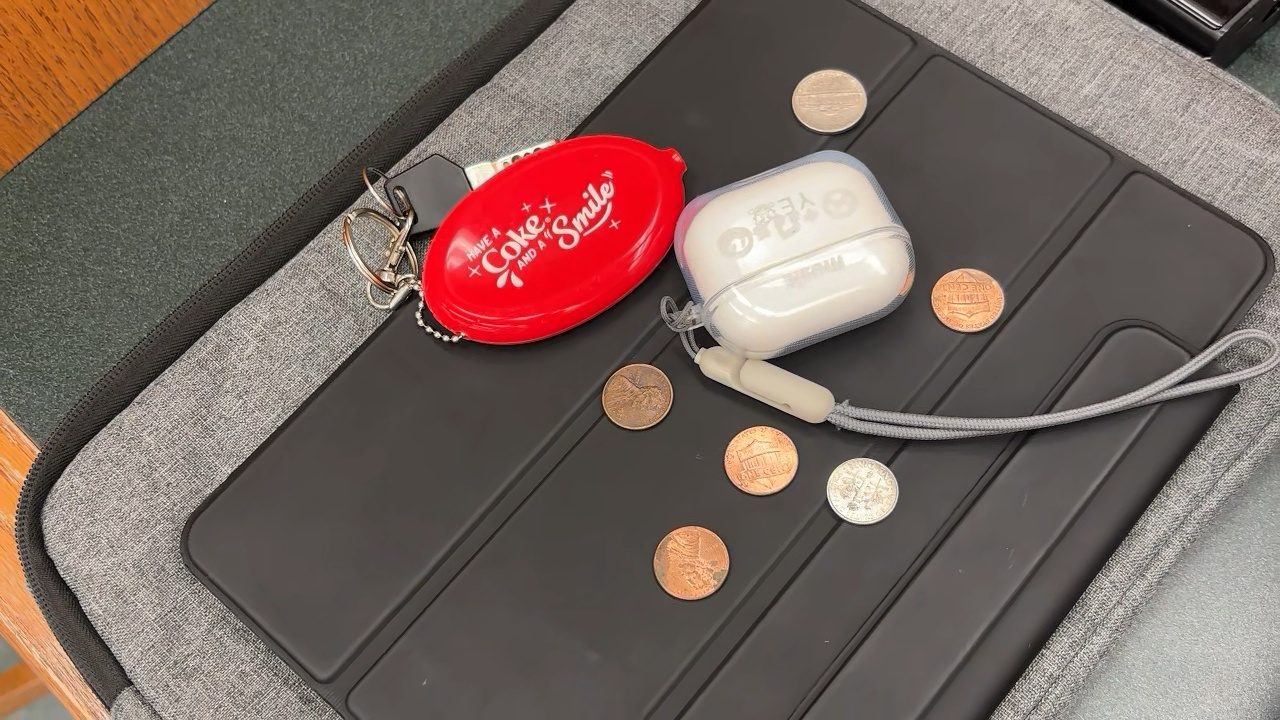dime: (791, 69, 868, 134)
nickel: (823, 454, 902, 530)
penny: (652, 526, 731, 603), (928, 267, 1009, 337), (599, 362, 674, 430), (724, 426, 799, 494)
